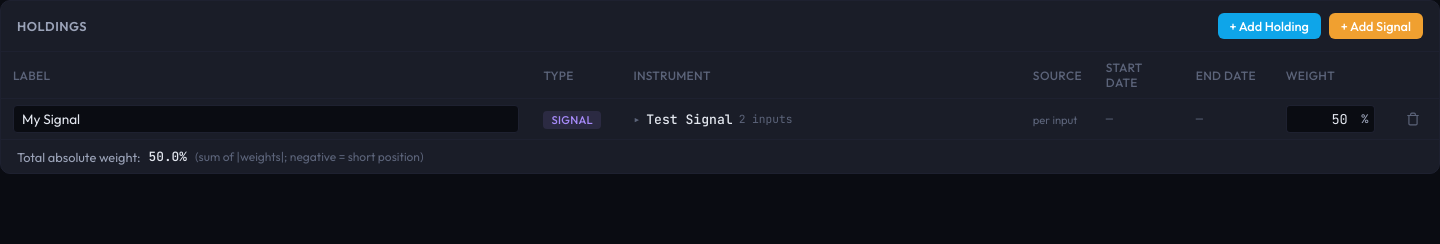
Test case: <HoldingsList> signal leg support › renders expandable signal inputs when signal has configured inputs
expect the text "2 inputs" is shown: met, box left=739, top=112, right=792, bottom=126
Click expand button to reveal inputs
Click the button with aria-label "Expand inputs" at (713, 119), box left=633, top=111, right=792, bottom=128
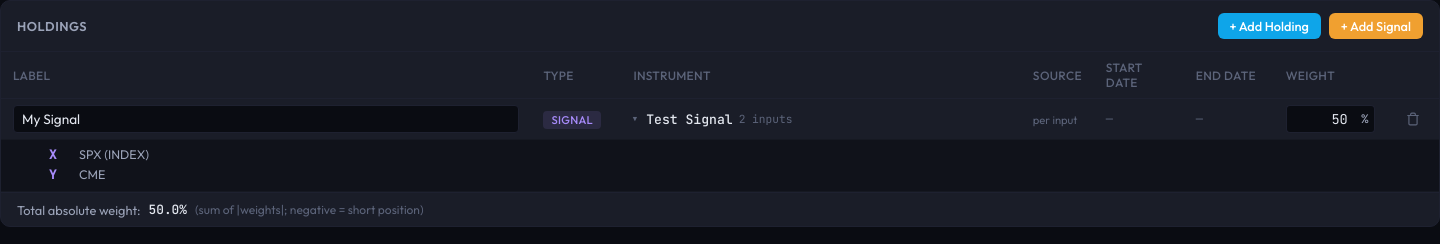
expect the text "X" is shown: met, box left=49, top=146, right=56, bottom=163
expect the text "Y" is shown: met, box left=49, top=166, right=56, bottom=183
expect the text "SPX (INDEX)" is shown: met, box left=79, top=147, right=149, bottom=162
